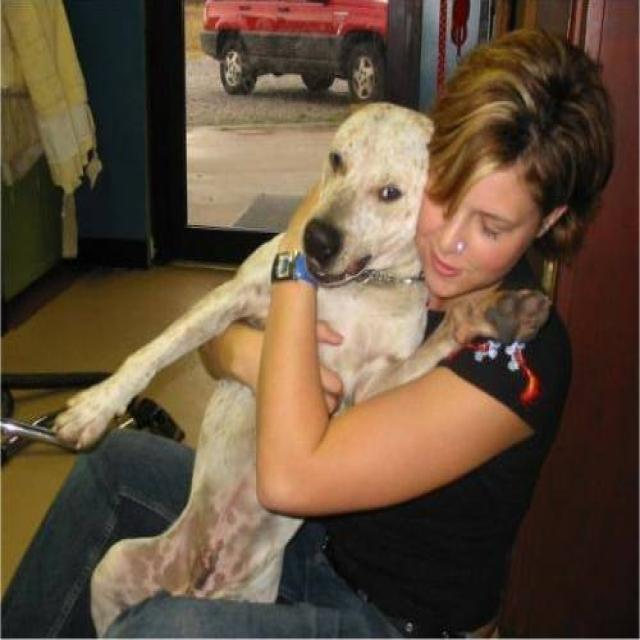dogs: (81, 70, 435, 634)
